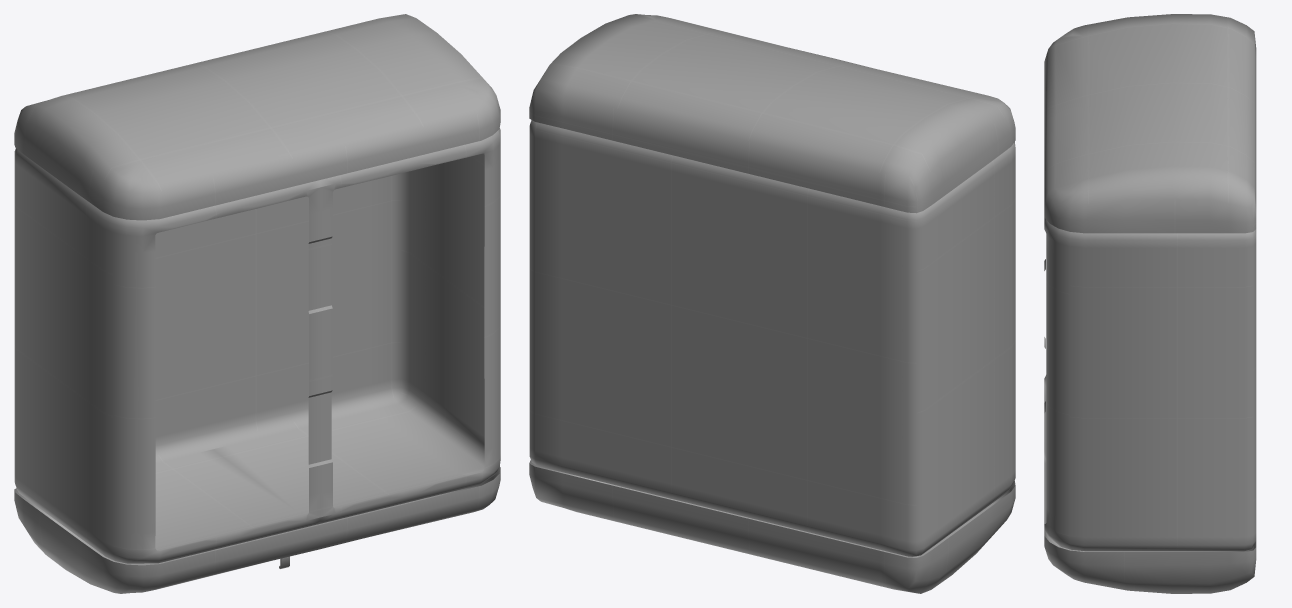
File: MeshToaster_29_0_GeomSubset_0.obj
The picture shows the model from 3 angles, left to right: view 1: azimuth 30°, elevation 25°; view 2: azimuth 150°, elevation 25°; view 3: azimuth 270°, elevation 25°; orthographic projection. The views are drawn at different scales.
Parts seen in each view (by area): view 1: MeshToaster_29_0_GeomSubset_0; view 2: MeshToaster_29_0_GeomSubset_0; view 3: MeshToaster_29_0_GeomSubset_0.
Boxes of the visible parts, x1,y1,x2,y2 form: MeshToaster_29_0_GeomSubset_0: (14, 14, 500, 593); MeshToaster_29_0_GeomSubset_0: (529, 14, 1015, 593); MeshToaster_29_0_GeomSubset_0: (1044, 14, 1256, 593).
Size of the model in its own units: 0.2966 by 0.3378 by 0.1647.
